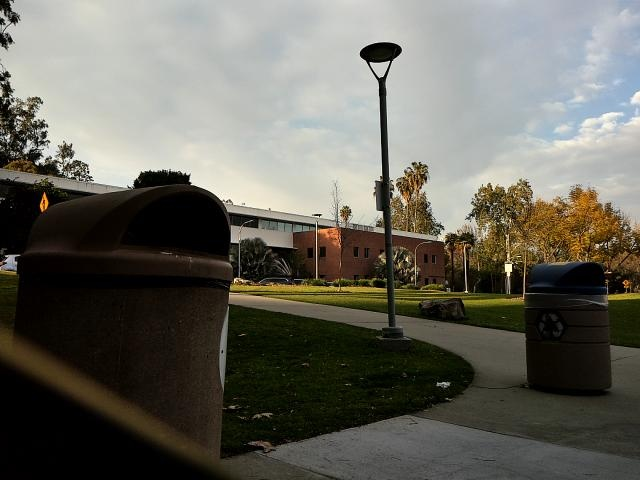trashcan: (18, 174, 241, 480), (516, 247, 620, 410)
